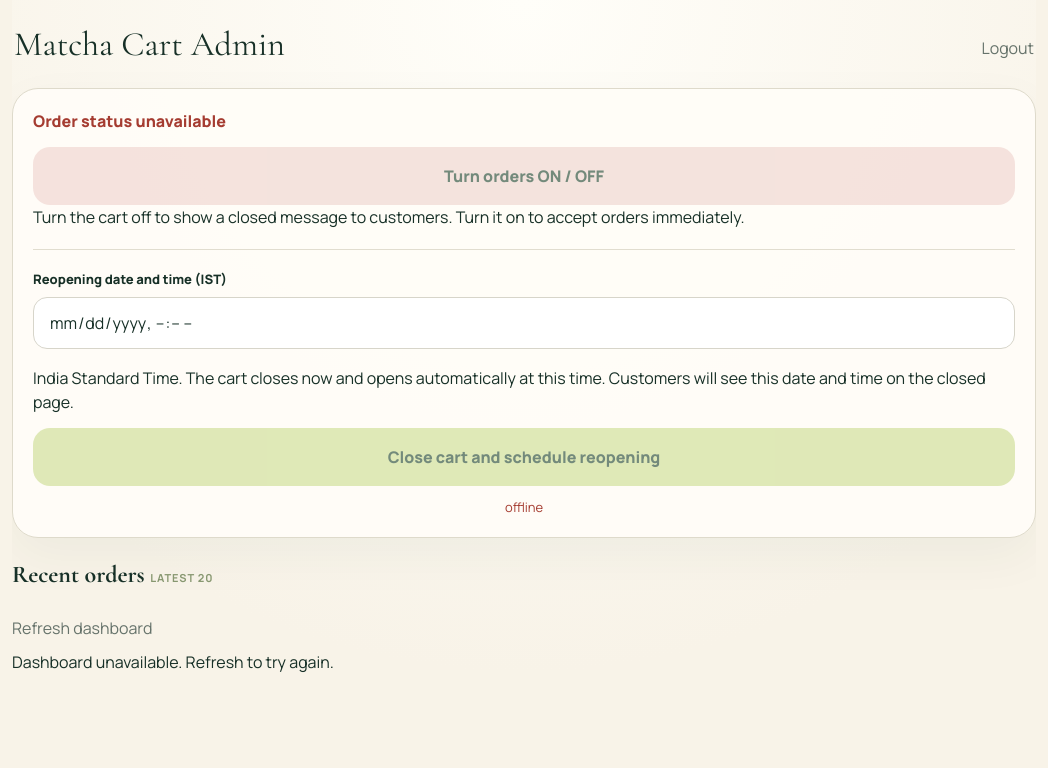
Test: admin dashboard › allows retry after a failed load without claiming there are no orders
The width and height of the screenshot is (1048, 768).
Expected: the text "Order status unavailable" is shown, top-left (33, 110), bottom-right (226, 132)
Expected: the text "No orders yet." is not shown
What coordinates should you click on to do the following:
click the button "Refresh dashboard"
I would click on:
 (82, 628)
Its box is top-left (12, 606), bottom-right (152, 650).
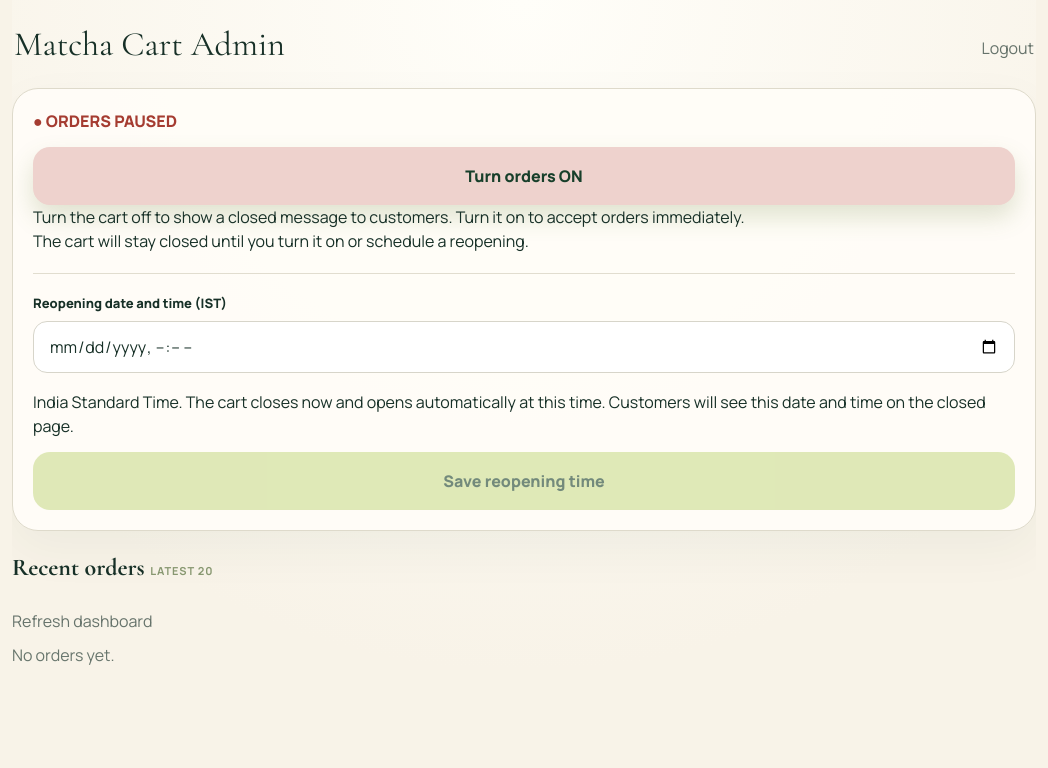
Expected: the button "Turn orders ON" is enabled, top-left (33, 147), bottom-right (1015, 205)
